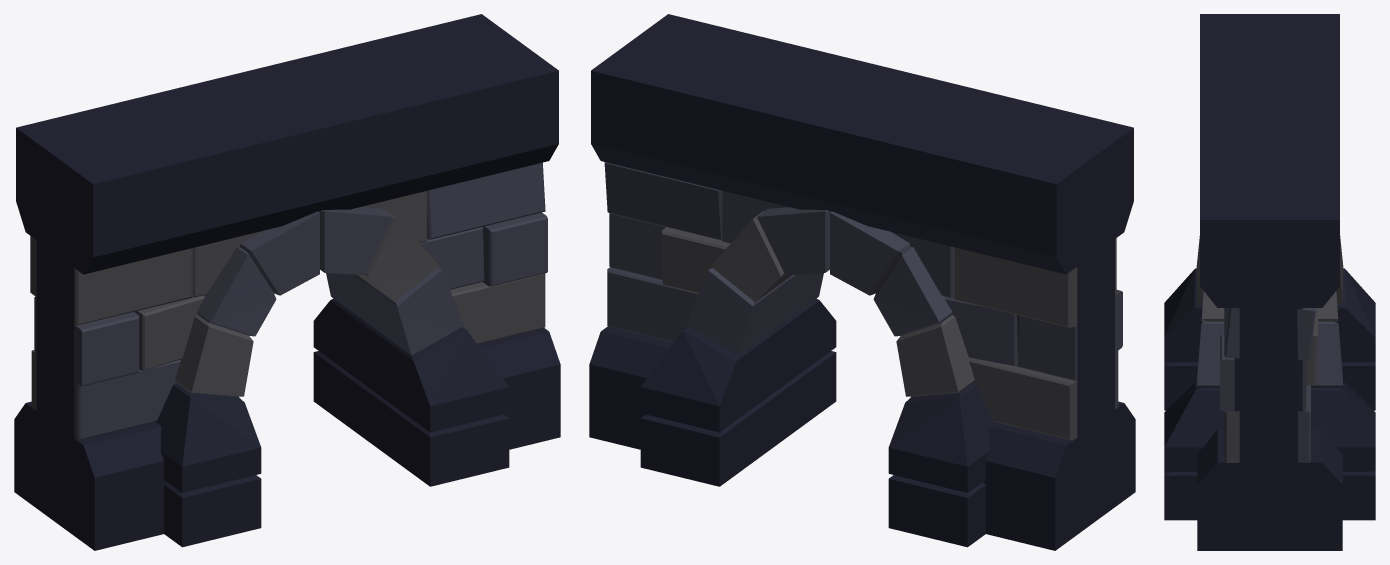
The model's file is Wall_Entrance.fbx.
3 renders of one model, left to right at view 1: azimuth 30°, elevation 25°; view 2: azimuth 150°, elevation 25°; view 3: azimuth 270°, elevation 25°, orthographic. The views are drawn at different scales.
Parts seen in each view (by area): view 1: 1-Wall_Entrance; view 2: 1-Wall_Entrance; view 3: 1-Wall_Entrance.
Boxes of the visible parts, <box> form: 1-Wall_Entrance: <box>14,14,560,550</box>; 1-Wall_Entrance: <box>589,14,1135,550</box>; 1-Wall_Entrance: <box>1164,14,1375,550</box>.
Size of the model in its own units: 4.01 by 1.73 by 3.
